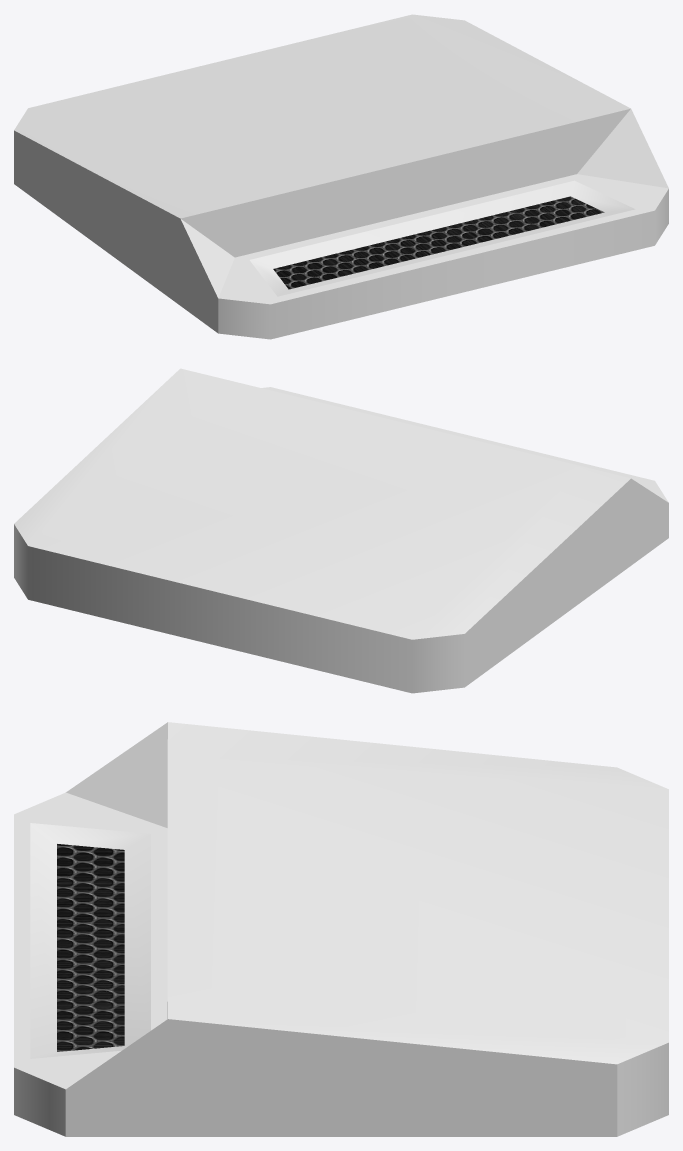
File: Roof_Inlet_4.fbx
3 renders of one model, top to bottom at view 1: azimuth 30°, elevation 25°; view 2: azimuth 150°, elevation 25°; view 3: azimuth 270°, elevation 25°, orthographic. The views are drawn at different scales.
Visible parts, largest first — view 1: Roof_Inlet_4; view 2: Roof_Inlet_4; view 3: Roof_Inlet_4.
Boxes of the visible parts, bbox=[...] form: Roof_Inlet_4: bbox=[14, 14, 668, 339]; Roof_Inlet_4: bbox=[14, 368, 668, 693]; Roof_Inlet_4: bbox=[14, 722, 668, 1136].
Bounding box in the file's own units: 42.79 × 7.92 × 39.89.
